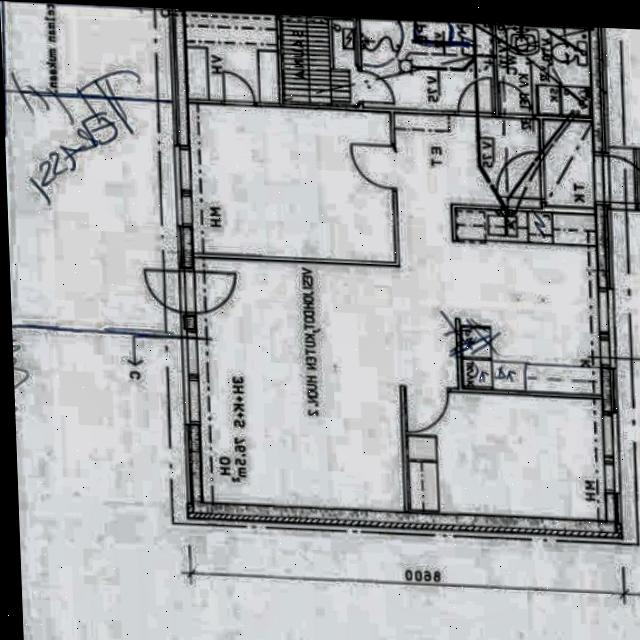room: (181, 103, 402, 262), (399, 390, 611, 519), (357, 19, 498, 113), (493, 24, 596, 116), (182, 10, 283, 103), (280, 13, 357, 106), (543, 117, 594, 208)
